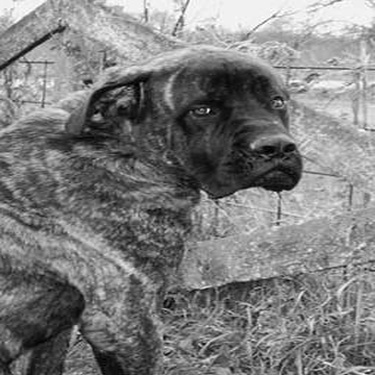dog: (3, 43, 306, 372)
